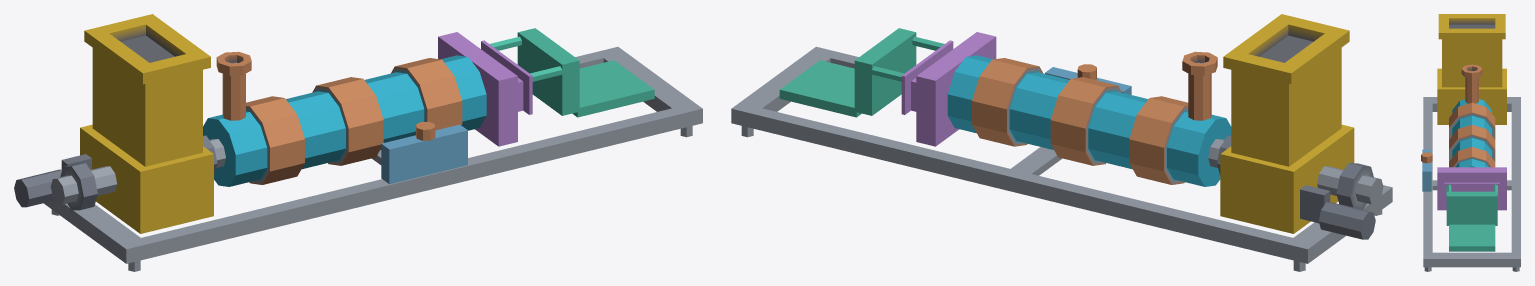
The model's file is stage-1.gltf.
The picture shows the model from 3 angles, left to right: view 1: azimuth 30°, elevation 25°; view 2: azimuth 150°, elevation 25°; view 3: azimuth 270°, elevation 25°; orthographic projection. The views are drawn at different scales.
Parts seen in each view (by area): view 1: SYS-BCA-STAGE-1; view 2: SYS-BCA-STAGE-1; view 3: SYS-BCA-STAGE-1.
Part boxes in pixels (left/top/right/bottom): SYS-BCA-STAGE-1: left=14, top=14, right=702, bottom=271; SYS-BCA-STAGE-1: left=731, top=14, right=1392, bottom=271; SYS-BCA-STAGE-1: left=1421, top=14, right=1520, bottom=271.
Bounding box in the file's own units: 353 × 101 × 86.
